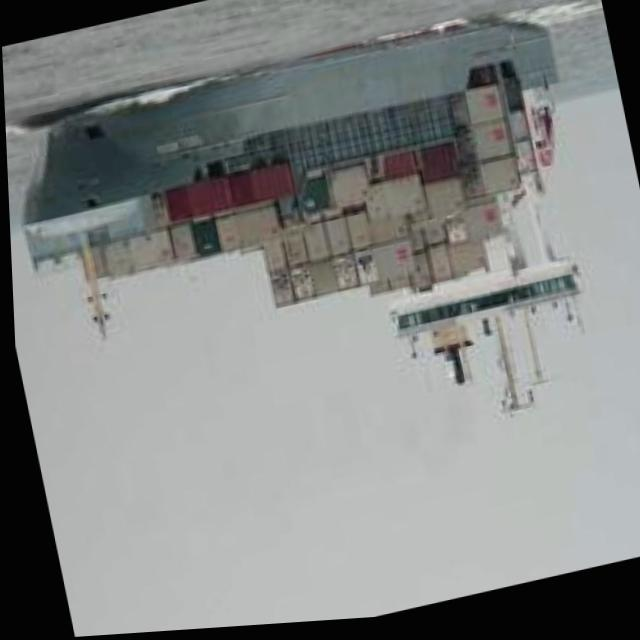ship2: (18, 26, 582, 422)
